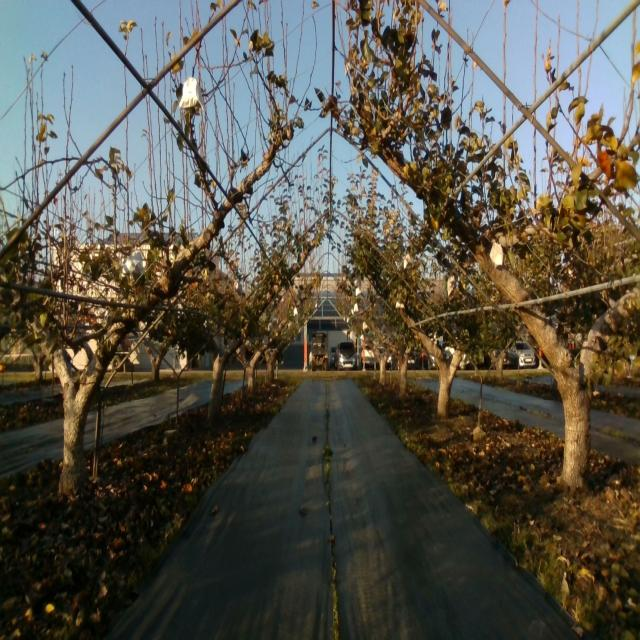pearbags: (179, 76, 204, 110), (122, 246, 144, 274), (489, 238, 503, 266)
